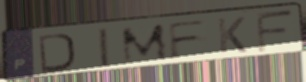D: (37, 31, 78, 74)
F: (254, 9, 297, 55), (166, 18, 210, 61)
I: (96, 26, 112, 69)
K: (215, 15, 249, 55)
M: (119, 22, 171, 67)
